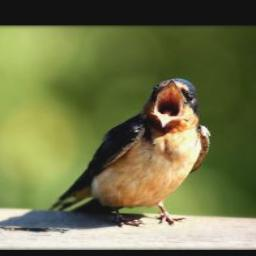Swallow: (47, 76, 212, 227)
